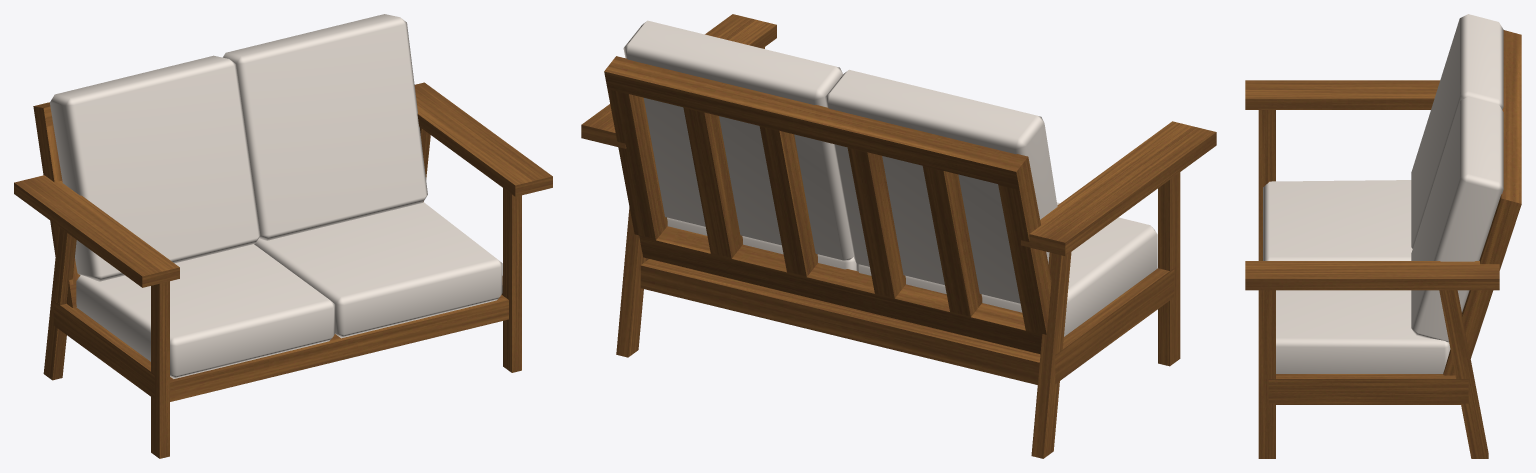
The model's file is sofa.fbx.
The picture shows the model from 3 angles, left to right: view 1: azimuth 30°, elevation 25°; view 2: azimuth 150°, elevation 25°; view 3: azimuth 270°, elevation 25°; orthographic projection. The views are drawn at different scales.
Parts seen in each view (by area): view 1: pCube34; view 2: pCube34; view 3: pCube34.
Part boxes in pixels (<box>): pCube34: <box>14,14,552,458</box>; pCube34: <box>581,14,1216,458</box>; pCube34: <box>1245,14,1521,458</box>.
Size of the model in its own units: 120 by 78.3 by 70.74.
Materials: 2 (2 with a texture image).
